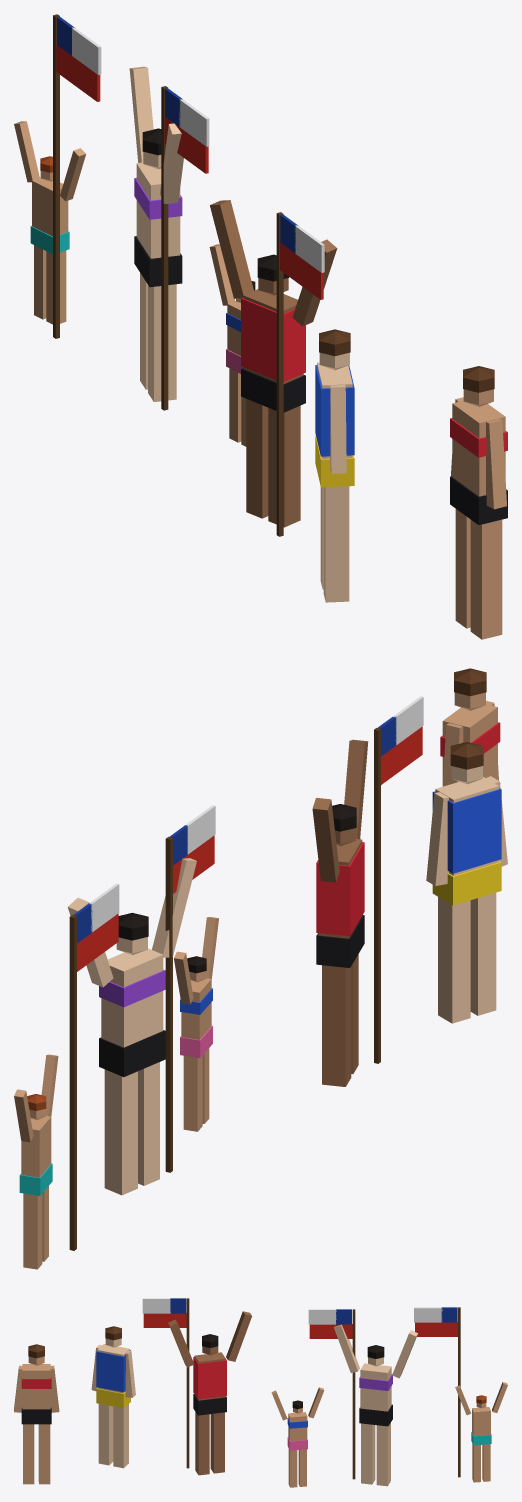
File: publico_playa_0.obj
The picture shows the model from 3 angles, top to bottom: view 1: azimuth 30°, elevation 25°; view 2: azimuth 150°, elevation 25°; view 3: azimuth 270°, elevation 25°; orthographic projection. The views are drawn at different scales.
Parts seen in each view (by area): view 1: publico_playa_0; view 2: publico_playa_0; view 3: publico_playa_0.
Boxes of the visible parts, left/top/right/bottom form: publico_playa_0: left=14, top=14, right=507, bottom=639; publico_playa_0: left=14, top=668, right=507, bottom=1269; publico_playa_0: left=14, top=1298, right=507, bottom=1487.
Bounding box in the file's own units: 0.8282 × 2.1 × 5.57.
